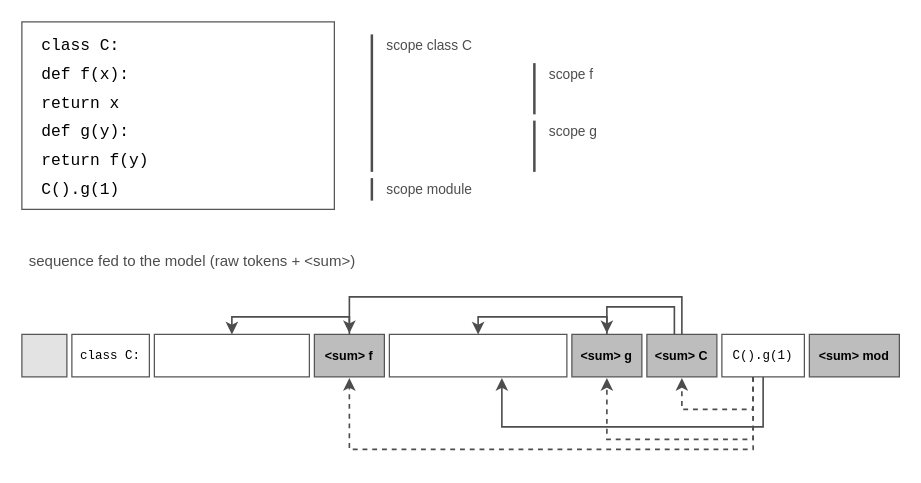
Image size: 921x483. Some labels were removed from this diagram. Each missing label, with the box of its shape:
BOS: (21, 333, 67, 377)
def f(x): return x: (153, 333, 309, 377)
def g(y): return f(y): (388, 333, 567, 377)
